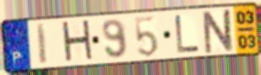5: (133, 15, 161, 58)
9: (100, 17, 129, 60)
H: (60, 18, 95, 65)
I: (35, 22, 49, 66)
L: (173, 14, 202, 55)
N: (202, 7, 236, 56)
